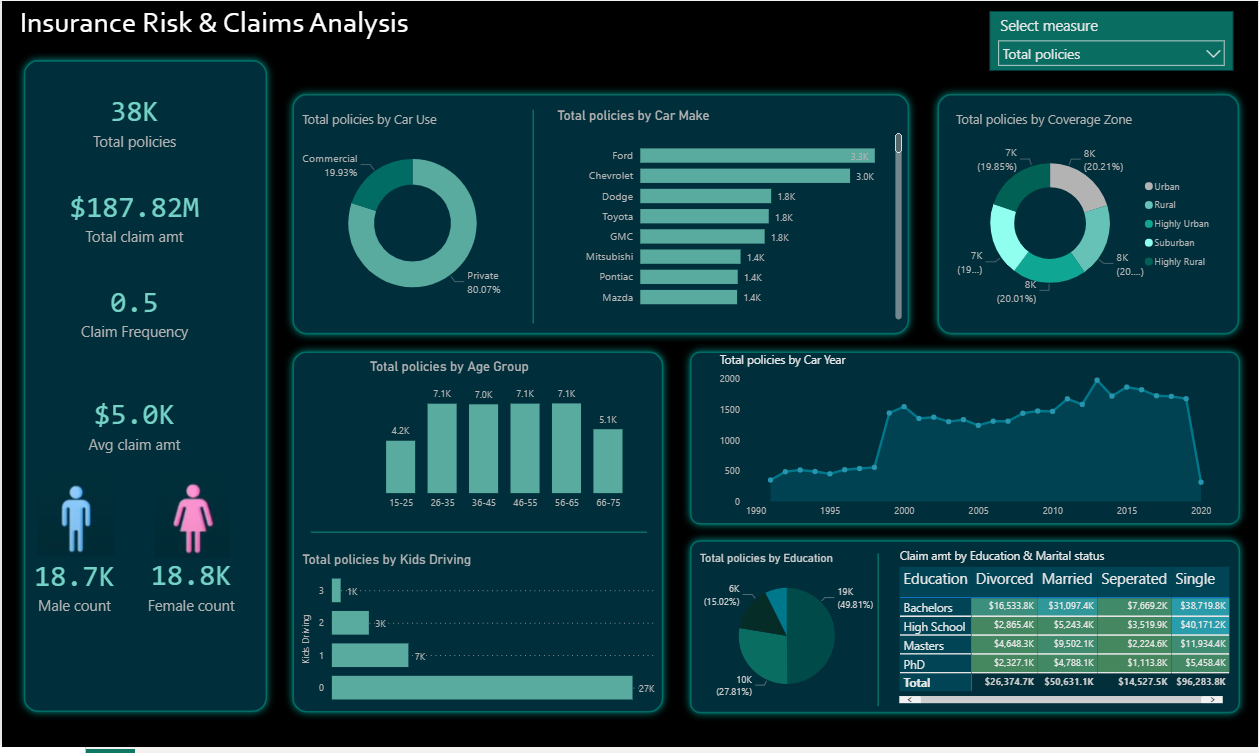

The page's visual inventory and layout, read from the dashboard file:
{"tool":"powerbi","page":{"name":"Page 1","canvas":[1600,950],"ordinal":0},"visuals":[{"type":"textbox","box":[17.2,0,524.9,65.2],"z":0},{"type":"shape","box":[17.2,65.2,330,850],"z":1000},{"type":"card","fields":{"Values":["insurance_data_car.Total policies"]},"box":[56.7,88.3,223.3,123.3],"z":2000},{"type":"card","fields":{"Values":["insurance_data_car.Total claim amt"]},"box":[56.7,211.7,223.3,121.7],"z":3000},{"type":"card","fields":{"Values":["Avg(insurance_data_car.Claim Freq)"]},"box":[56.7,333.3,223.3,121.7],"z":4000},{"type":"card","fields":{"Values":["insurance_data_car.Avg claim amt"]},"box":[56.7,475,223.3,121.7],"z":5000},{"type":"card","fields":{"Values":["insurance_data_car.Male count"]},"box":[35,693.3,115,96.7],"z":6000},{"type":"card","fields":{"Values":["insurance_data_car.Female count"]},"box":[179.8,693.8,122.5,95.5],"z":7000},{"type":"image","box":[181.7,596.7,121.7,116.7],"z":8000},{"type":"image","box":[33.3,596.7,121.7,115],"z":9000},{"type":"slicer","fields":{"Values":["Select measure.Select measure"]},"box":[1257.1,12.7,310.3,76.4],"z":10000},{"type":"shape","box":[359.6,108.2,805.2,326.2],"z":11000},{"type":"donutChart","fields":{"Y":["insurance_data_car.Total policies"],"Category":["insurance_data_car.Car Use"]},"box":[377.1,138.4,291.2,267.3],"z":12000},{"type":"clusteredBarChart","fields":{"Y":["insurance_data_car.Total policies"],"Category":["insurance_data_car.Car Make"]},"box":[701.8,135.3,448.7,275.3],"z":13000},{"type":"shape","box":[1180.7,108.2,404.2,326.2],"z":14000},{"type":"donutChart","fields":{"Y":["insurance_data_car.Total policies"],"Category":["insurance_data_car.Coverage Zone"]},"box":[1209.4,138.4,342.1,267.3],"z":15000},{"type":"shape","box":[359.4,435.9,492.2,479.7],"z":16000},{"type":"clusteredColumnChart","fields":{"Y":["insurance_data_car.Total policies"],"Category":["insurance_data_car.Age Group"]},"box":[462.5,454.7,354.7,201.6],"z":17000},{"type":"clusteredBarChart","fields":{"Y":["insurance_data_car.Total policies"],"Category":["insurance_data_car.Kids Driving"]},"box":[377.1,700.2,459.9,203.7],"z":18000},{"type":"shape","box":[865.6,435.9,720.3,240.6],"z":19000},{"type":"areaChart","fields":{"Y":["insurance_data_car.Total policies"],"Category":["insurance_data_car.Car Year"]},"box":[909.4,445.3,635.9,221.9],"z":20000},{"type":"shape","box":[865.6,676.6,720.3,240.6],"z":21000},{"type":"pieChart","fields":{"Y":["insurance_data_car.Total policies"],"Category":["insurance_data_car.Education"]},"box":[883.2,700.2,232.3,198.9],"z":22000},{"type":"pivotTable","title":"Claim amt by Education & Marital status","fields":{"Rows":["insurance_data_car.Education"],"Columns":["insurance_data_car.Marital Status"],"Values":["insurance_data_car.Total claim amt"]},"box":[1137.8,695.4,429.6,203.7],"z":23000},{"type":"shape","box":[627,138.4,98.7,272.1],"z":24000},{"type":"shape","box":[1066.2,703.4,98.7,194.1],"z":25000},{"type":"shape","box":[393,579.2,428.1,194.1],"z":26000}]}

Visuals, with their boxes in screenshot pixels (x1, y1, x2, y2), scaled from the page's 1600x950 canvas onto the 1259x753 screenshot:
textbox: left=14, top=0, right=427, bottom=52
shape: left=14, top=52, right=273, bottom=725
card - insurance_data_car.Total policies: left=45, top=70, right=220, bottom=168
card - insurance_data_car.Total claim amt: left=45, top=168, right=220, bottom=264
card - Avg(insurance_data_car.Claim Freq): left=45, top=264, right=220, bottom=361
card - insurance_data_car.Avg claim amt: left=45, top=376, right=220, bottom=473
card - insurance_data_car.Male count: left=28, top=550, right=118, bottom=626
card - insurance_data_car.Female count: left=141, top=550, right=238, bottom=626
image: left=143, top=473, right=239, bottom=565
image: left=26, top=473, right=122, bottom=564
slicer - Select measure.Select measure: left=989, top=10, right=1233, bottom=71
shape: left=283, top=86, right=917, bottom=344
donutChart - insurance_data_car.Total policies x insurance_data_car.Car Use: left=297, top=110, right=526, bottom=322
clusteredBarChart - insurance_data_car.Total policies x insurance_data_car.Car Make: left=552, top=107, right=905, bottom=325
shape: left=929, top=86, right=1247, bottom=344
donutChart - insurance_data_car.Total policies x insurance_data_car.Coverage Zone: left=952, top=110, right=1221, bottom=322
shape: left=283, top=346, right=670, bottom=726
clusteredColumnChart - insurance_data_car.Total policies x insurance_data_car.Age Group: left=364, top=360, right=643, bottom=520
clusteredBarChart - insurance_data_car.Total policies x insurance_data_car.Kids Driving: left=297, top=555, right=659, bottom=716
shape: left=681, top=346, right=1248, bottom=536
areaChart - insurance_data_car.Total policies x insurance_data_car.Car Year: left=716, top=353, right=1216, bottom=529
shape: left=681, top=536, right=1248, bottom=727
pieChart - insurance_data_car.Total policies x insurance_data_car.Education: left=695, top=555, right=878, bottom=713
"Claim amt by Education & Marital status" pivotTable: left=895, top=551, right=1233, bottom=713
shape: left=493, top=110, right=571, bottom=325
shape: left=839, top=558, right=917, bottom=711
shape: left=309, top=459, right=646, bottom=613
